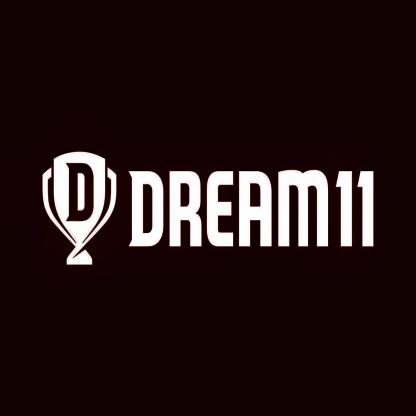Dream11: (127, 167, 375, 248), (41, 148, 120, 270)
